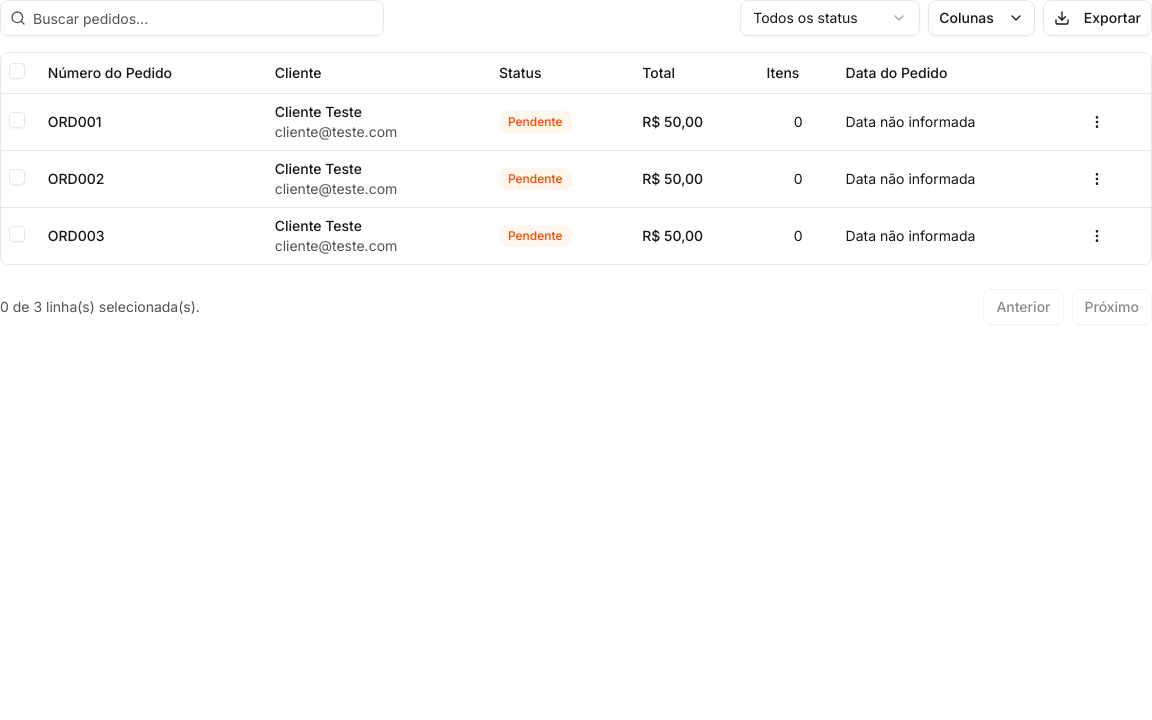
Test: Ações em Massa - DataTable › Exclusão em Massa › deve limpar seleção após exclusão em massa
# Selecionar pedidos
Click the checkbox named "Select row" next to "ORD001" at (17, 120), box top-left (9, 112), bottom-right (25, 128)
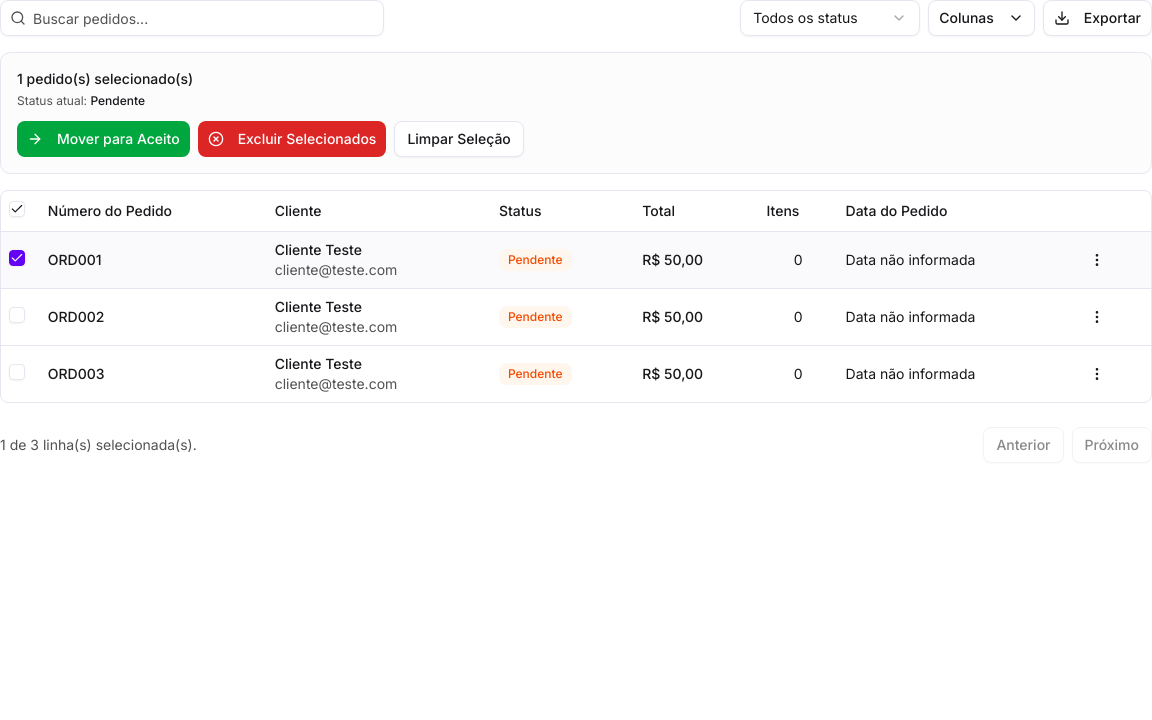
Check: the button "Excluir Selecionados" is shown
Click the button "Excluir Selecionados" at (292, 139), box top-left (198, 121), bottom-right (386, 157)
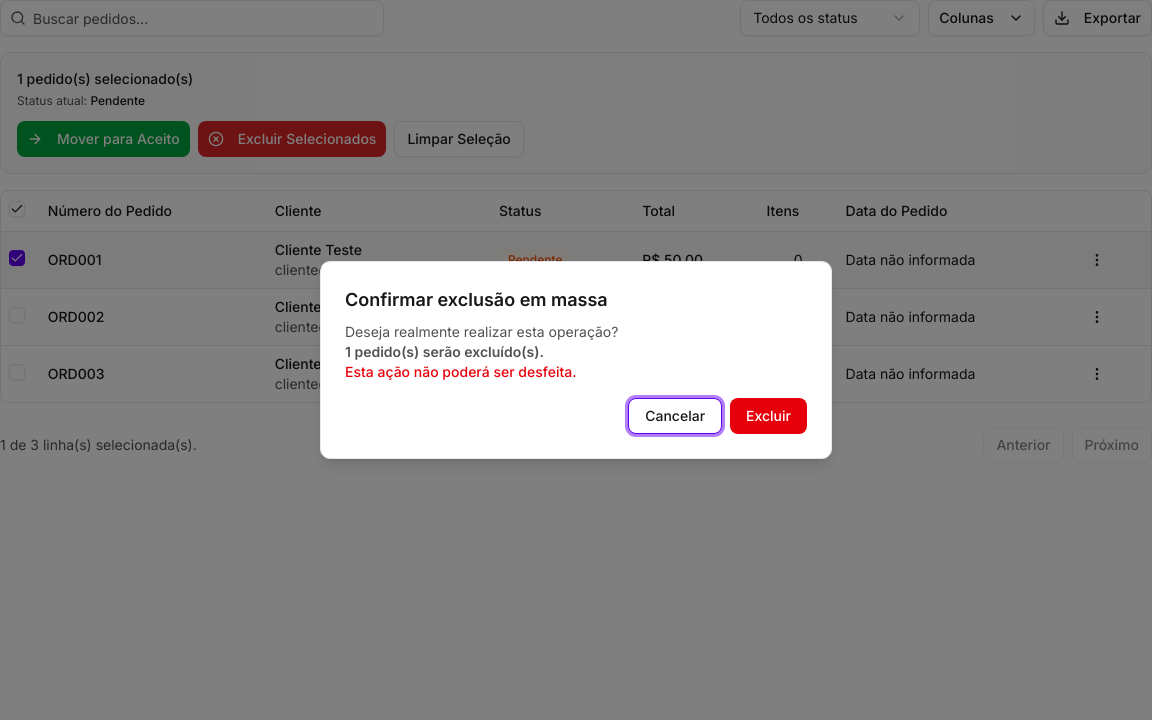
Click the button "Excluir" at (769, 416), box top-left (730, 398), bottom-right (807, 434)
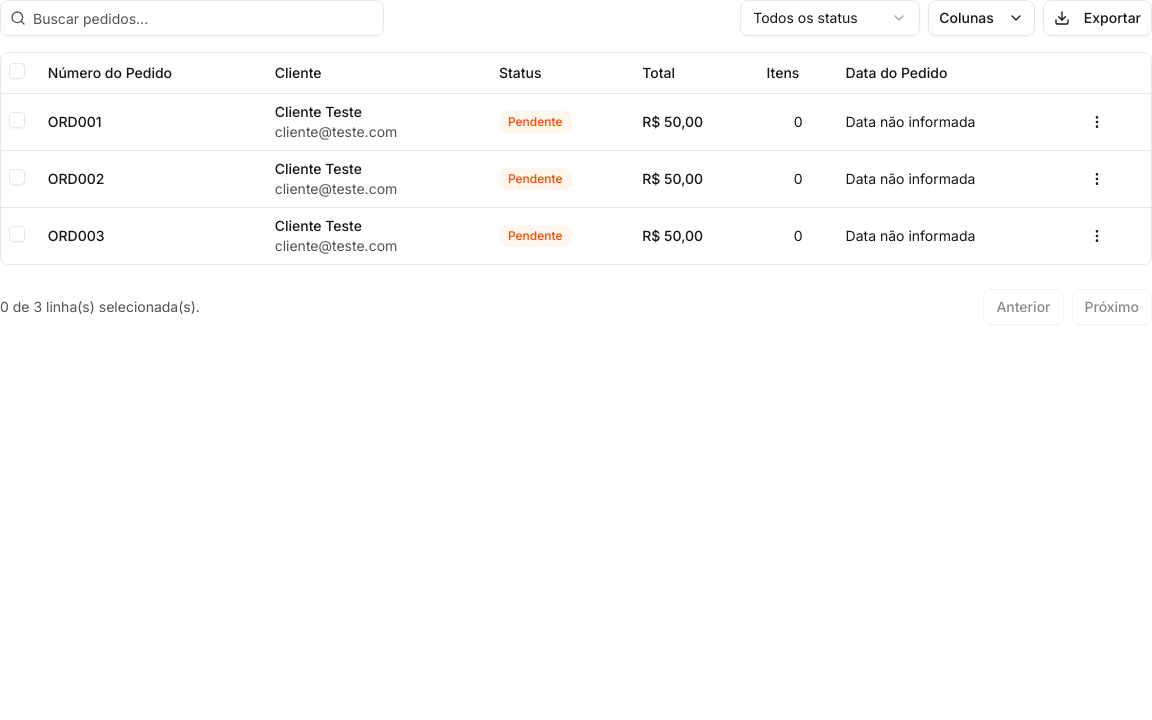
Check: the text "pedido(s) selecionado(s)" is gone
